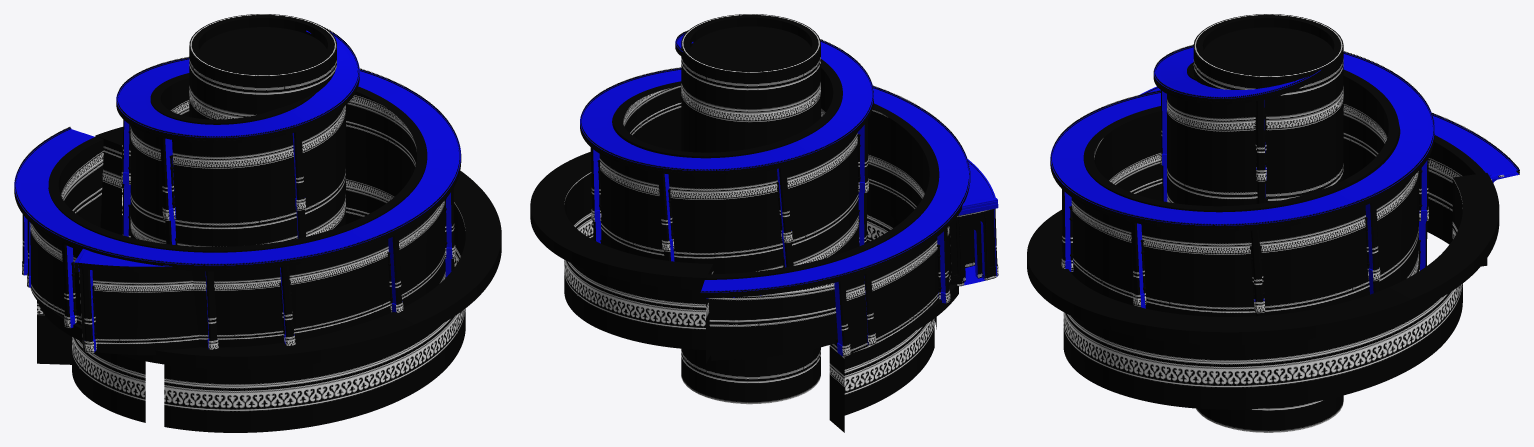
File: TopSection.fbx
The picture shows the model from 3 angles, left to right: view 1: azimuth 30°, elevation 25°; view 2: azimuth 150°, elevation 25°; view 3: azimuth 270°, elevation 25°; orthographic projection. The views are drawn at different scales.
Parts seen in each view (by area): view 1: Level5; view 2: Level5; view 3: Level5.
Part boxes in pixels (bbox=[...]): Level5: bbox=[14, 14, 501, 432]; Level5: bbox=[530, 14, 998, 432]; Level5: bbox=[1027, 14, 1519, 432].
Bounding box in the file's own units: 9923 × 7718 × 9696.
